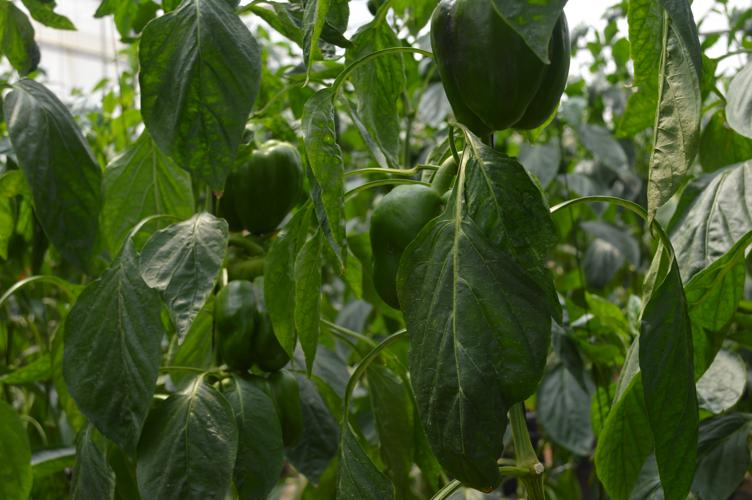BellPepper: (434, 3, 574, 136), (355, 188, 440, 309), (211, 141, 305, 235), (202, 270, 287, 373)
